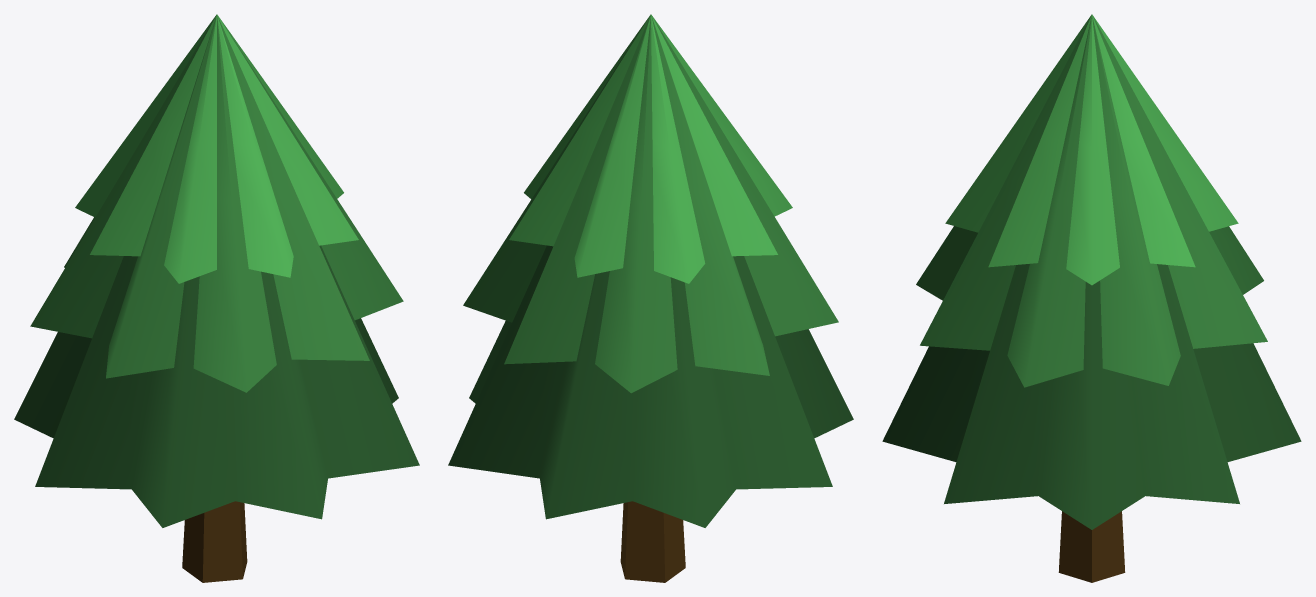
The model's file is Baum.fbx.
3 renders of one model, left to right at view 1: azimuth 30°, elevation 25°; view 2: azimuth 150°, elevation 25°; view 3: azimuth 270°, elevation 25°, orthographic.
Parts seen in each view (by area): view 1: Nadeln_3, Nadeln_2, Nadeln, Kegel; view 2: Nadeln_3, Nadeln_2, Nadeln, Kegel; view 3: Nadeln_3, Nadeln_2, Nadeln, Kegel.
Boxes of the visible parts, <box> form: Nadeln_3: <box>14,245,419,527</box>; Nadeln_2: <box>30,15,403,392</box>; Nadeln: <box>75,14,358,283</box>; Kegel: <box>182,501,247,582</box>; Nadeln_3: <box>448,245,853,527</box>; Nadeln_2: <box>463,14,838,393</box>; Nadeln: <box>509,14,792,283</box>; Kegel: <box>620,501,685,582</box>; Nadeln_3: <box>882,264,1301,529</box>; Nadeln_2: <box>916,15,1267,387</box>; Nadeln: <box>945,14,1238,285</box>; Kegel: <box>1058,511,1125,582</box>.
Size of the model in its own units: 360 by 525 by 360.
